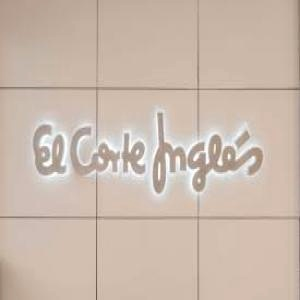corte_ingles: (256, 54, 285, 162)
